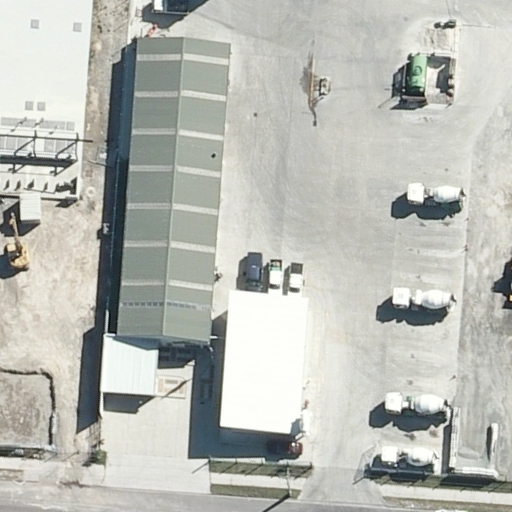DT: (272, 463, 305, 498)
